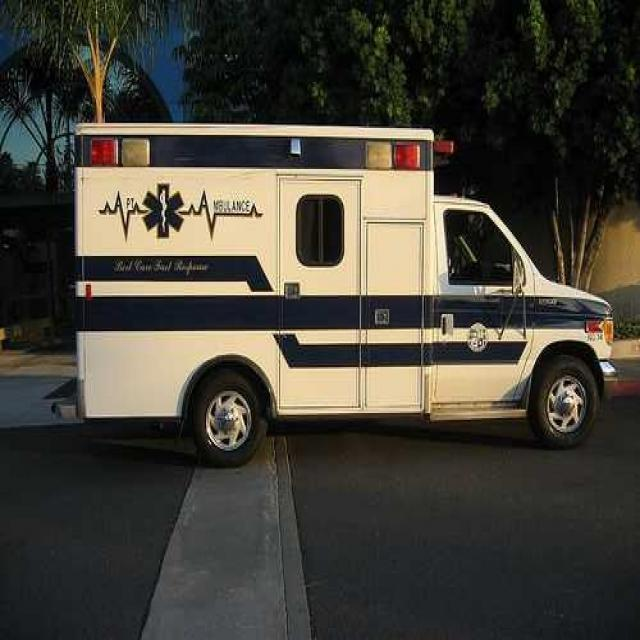emergency-vehicle: (69, 125, 612, 452)
